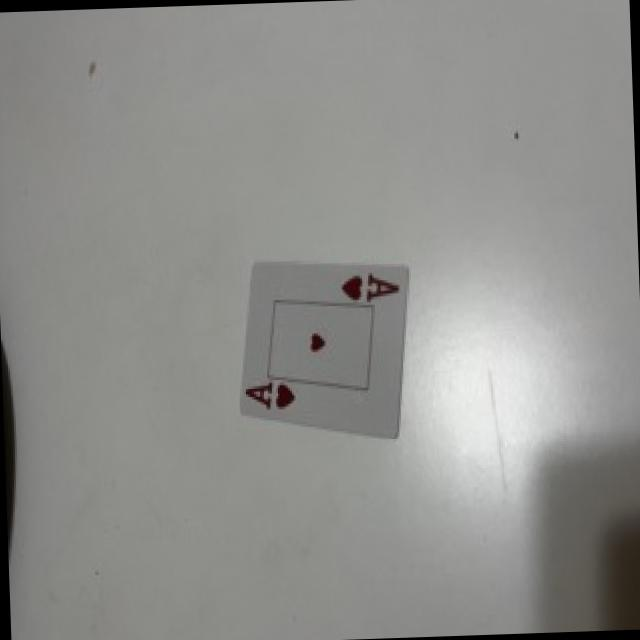Ace of hearts: (240, 262, 406, 436)
